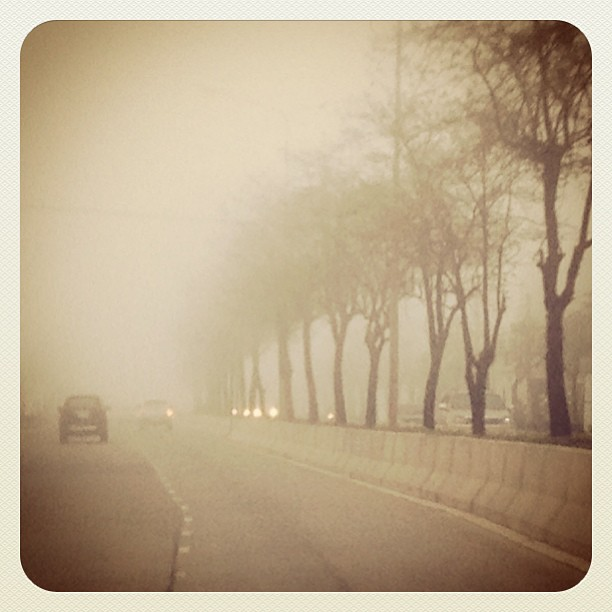car: (56, 390, 111, 448), (133, 399, 178, 438)
street: (30, 438, 560, 587)
tree: (467, 11, 587, 454), (371, 131, 515, 433), (268, 183, 391, 434)
